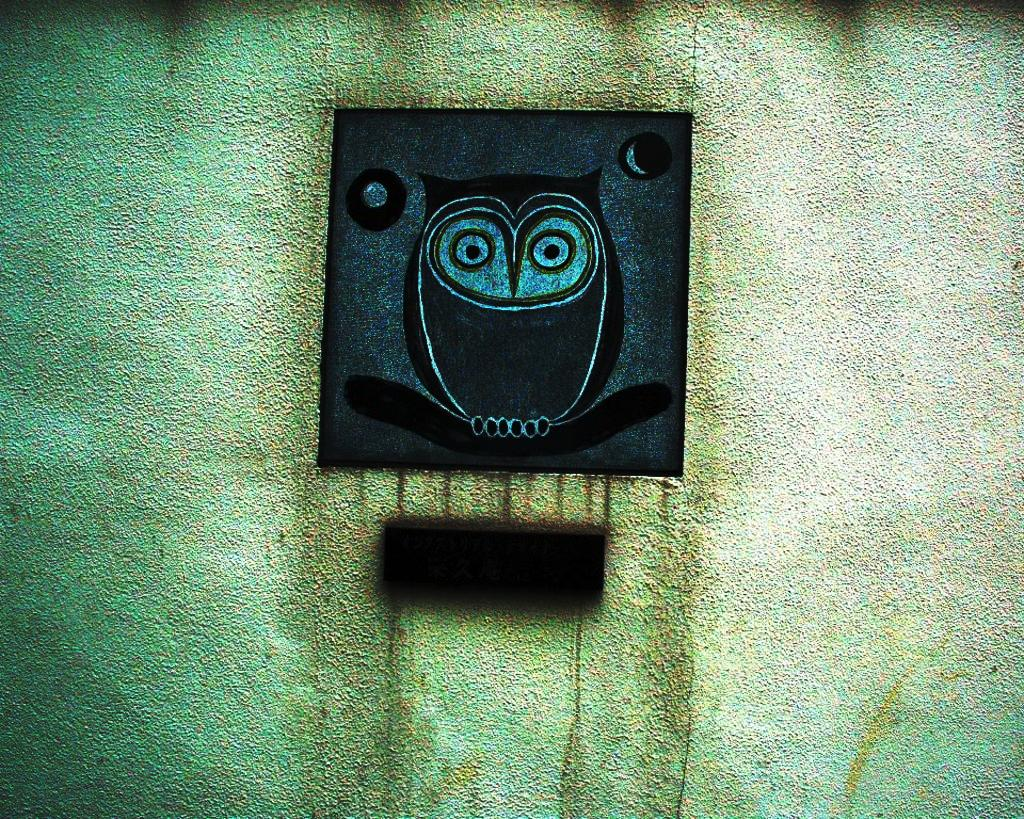Owl: (406, 160, 634, 448)
